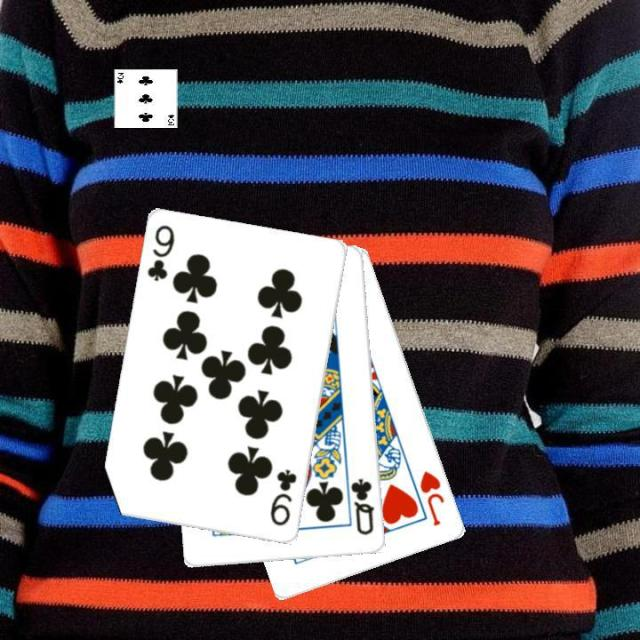9C: (266, 465, 300, 528), (143, 222, 177, 284)
JH: (416, 467, 447, 528)
QC: (348, 475, 376, 537)
